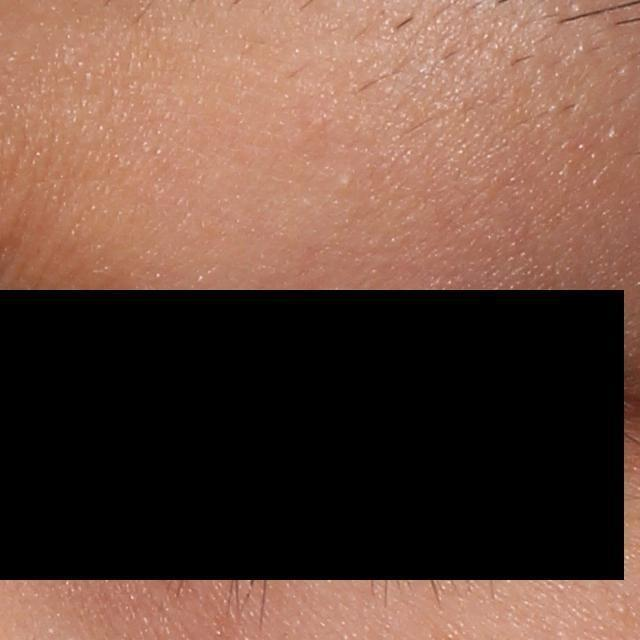comedo: (334, 175, 354, 192)
